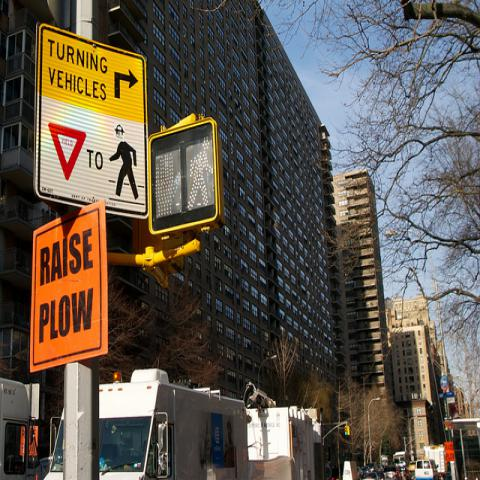car: (416, 458, 440, 479), (384, 466, 402, 480), (359, 472, 381, 479), (377, 465, 384, 472)
truck: (99, 362, 250, 474), (246, 404, 326, 479), (423, 443, 449, 479)
